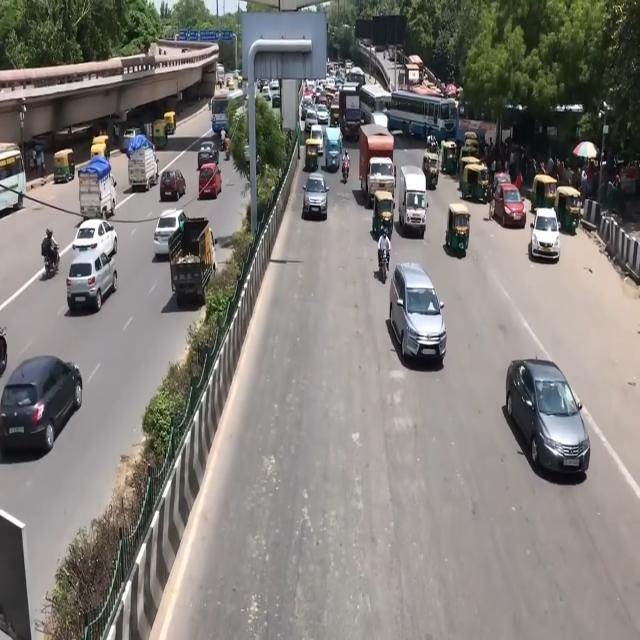auto: (302, 124, 333, 192), (374, 193, 401, 246), (417, 144, 443, 192), (297, 128, 301, 132)
